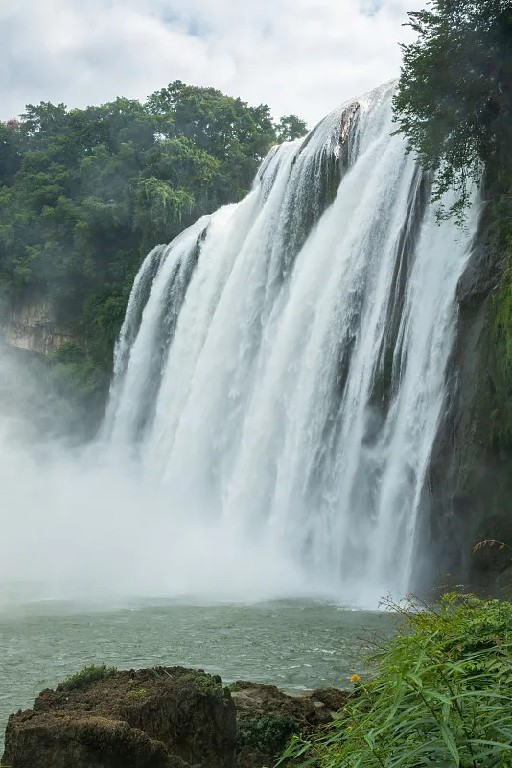Huangguoshu: (91, 81, 485, 608)
